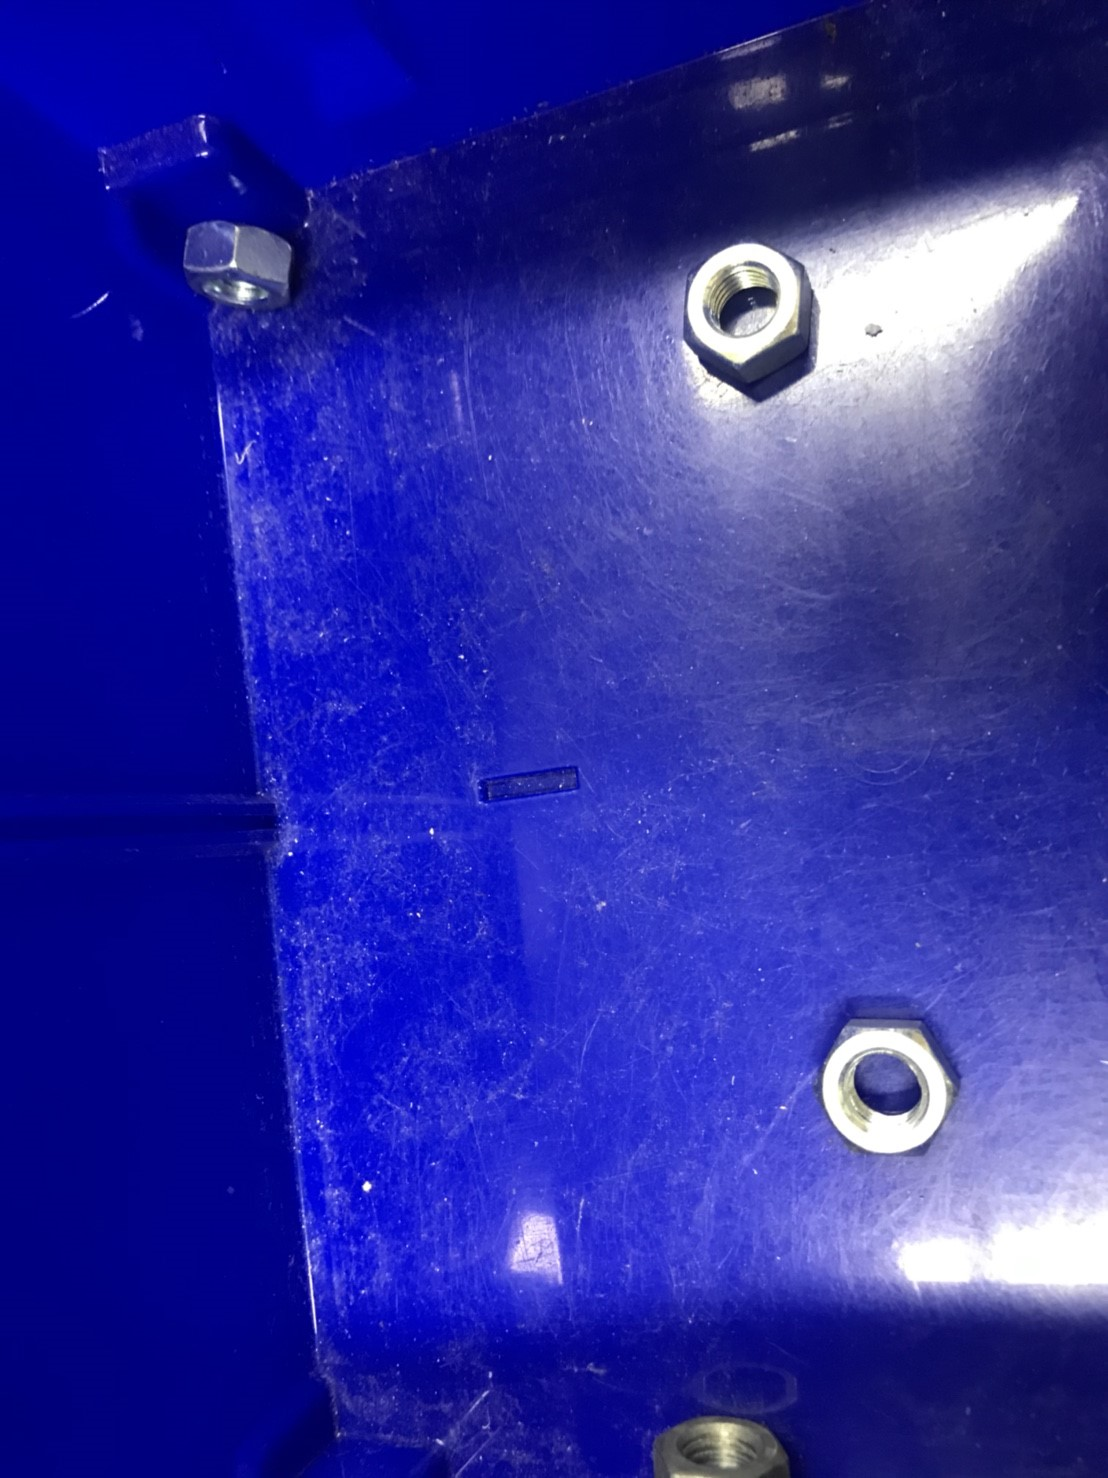nut: (811, 1012, 970, 1154), (683, 236, 814, 372), (175, 215, 307, 310)
